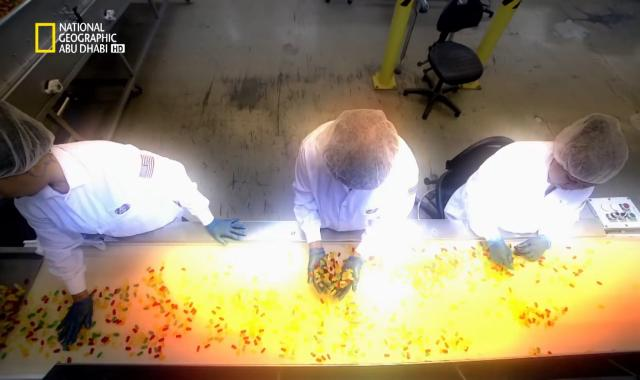hairnet: (316, 108, 399, 188), (551, 108, 627, 195), (0, 102, 58, 180)
